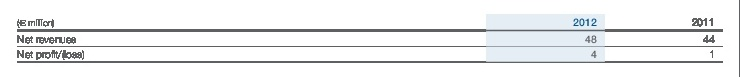table: (0, 0, 740, 77)
